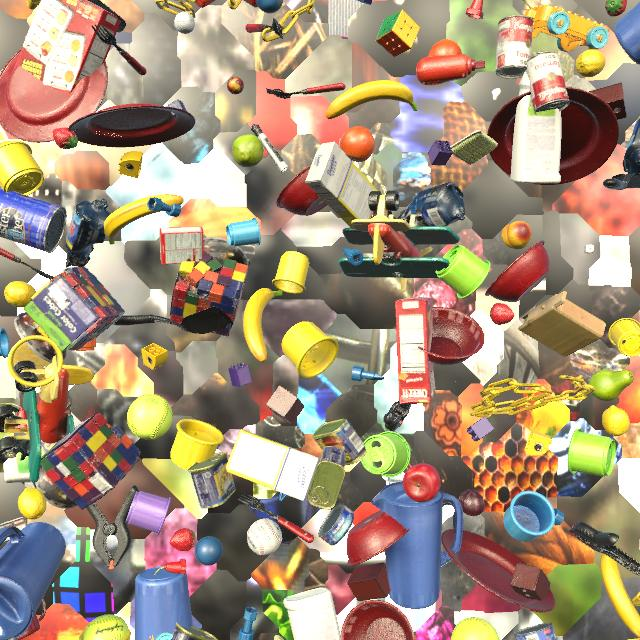ycb_002_master_chef_can: (0, 187, 67, 253)
ycb_003_cracker_box: (14, 0, 121, 94), (395, 297, 435, 404)
ycb_004_sugar_box: (226, 429, 320, 501), (305, 142, 378, 229), (30, 0, 40, 3)
ycb_005_tomato_soup_can: (525, 51, 570, 115), (496, 15, 533, 79)
ycb_006_mustard_bottle: (26, 0, 41, 9)
ycb_007_tuna_fish_can: (318, 503, 355, 546), (513, 623, 557, 640)
ycb_008_pudding_box: (0, 517, 27, 543)
ycb_009_gelatin_box: (159, 226, 204, 265)
ycb_010_potted_meat_can: (188, 451, 236, 509), (313, 419, 367, 465), (308, 446, 346, 509), (171, 622, 218, 640)
ycb_011_banana: (104, 194, 183, 245), (600, 544, 640, 638), (325, 80, 419, 119), (243, 288, 283, 363)
ycb_012_strawberry: (170, 528, 195, 551), (53, 127, 78, 150), (490, 303, 514, 325), (605, 0, 627, 17)
ycb_013_apple: (403, 463, 441, 502)
ycb_014_lemon: (18, 488, 47, 520), (602, 405, 630, 436), (576, 49, 606, 77), (4, 281, 36, 307), (0, 141, 11, 145), (417, 576, 418, 577)
ycb_015_peach: (501, 221, 532, 249)
ycb_016_pear: (588, 370, 634, 401), (232, 134, 264, 167)
ycb_017_orange: (340, 126, 375, 162), (428, 39, 462, 56)
ycb_018_plum: (458, 489, 485, 516)
